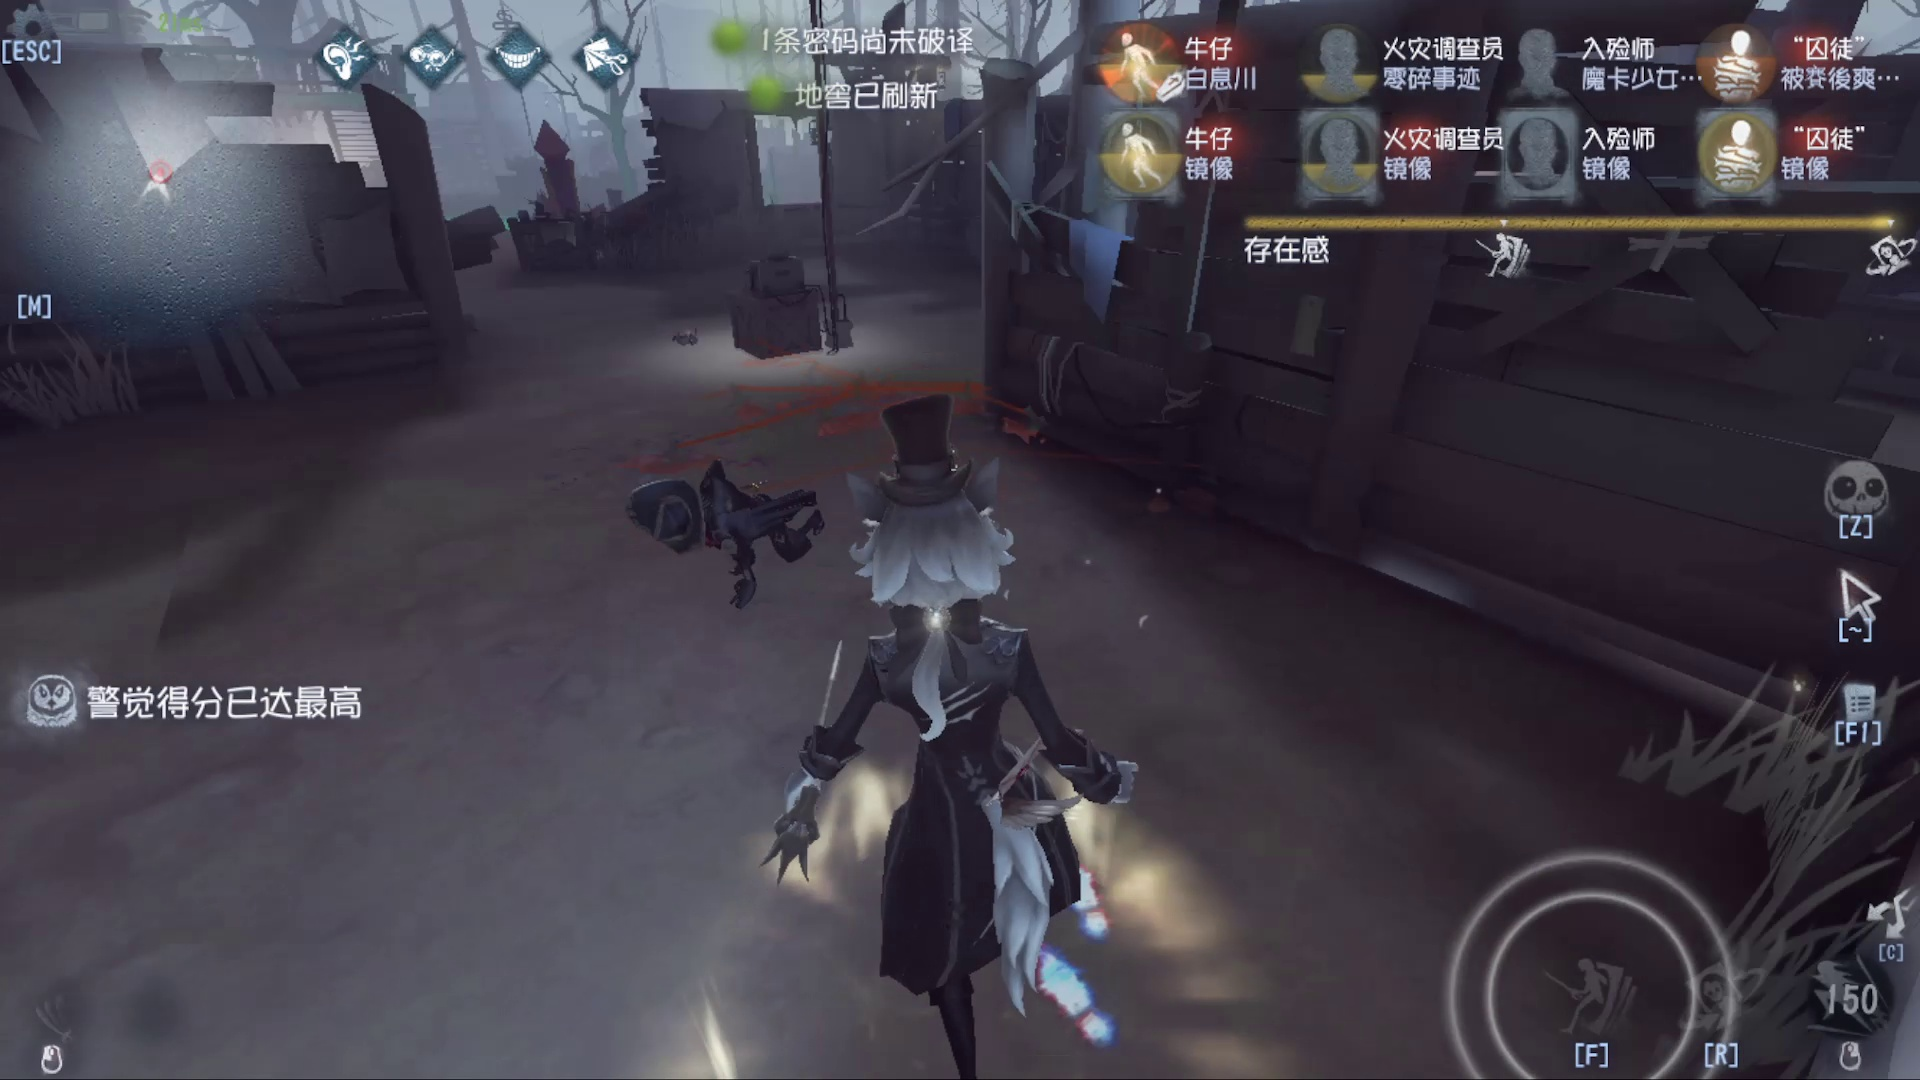密码机: (640, 167, 882, 427)
求生者: (622, 458, 833, 608)
